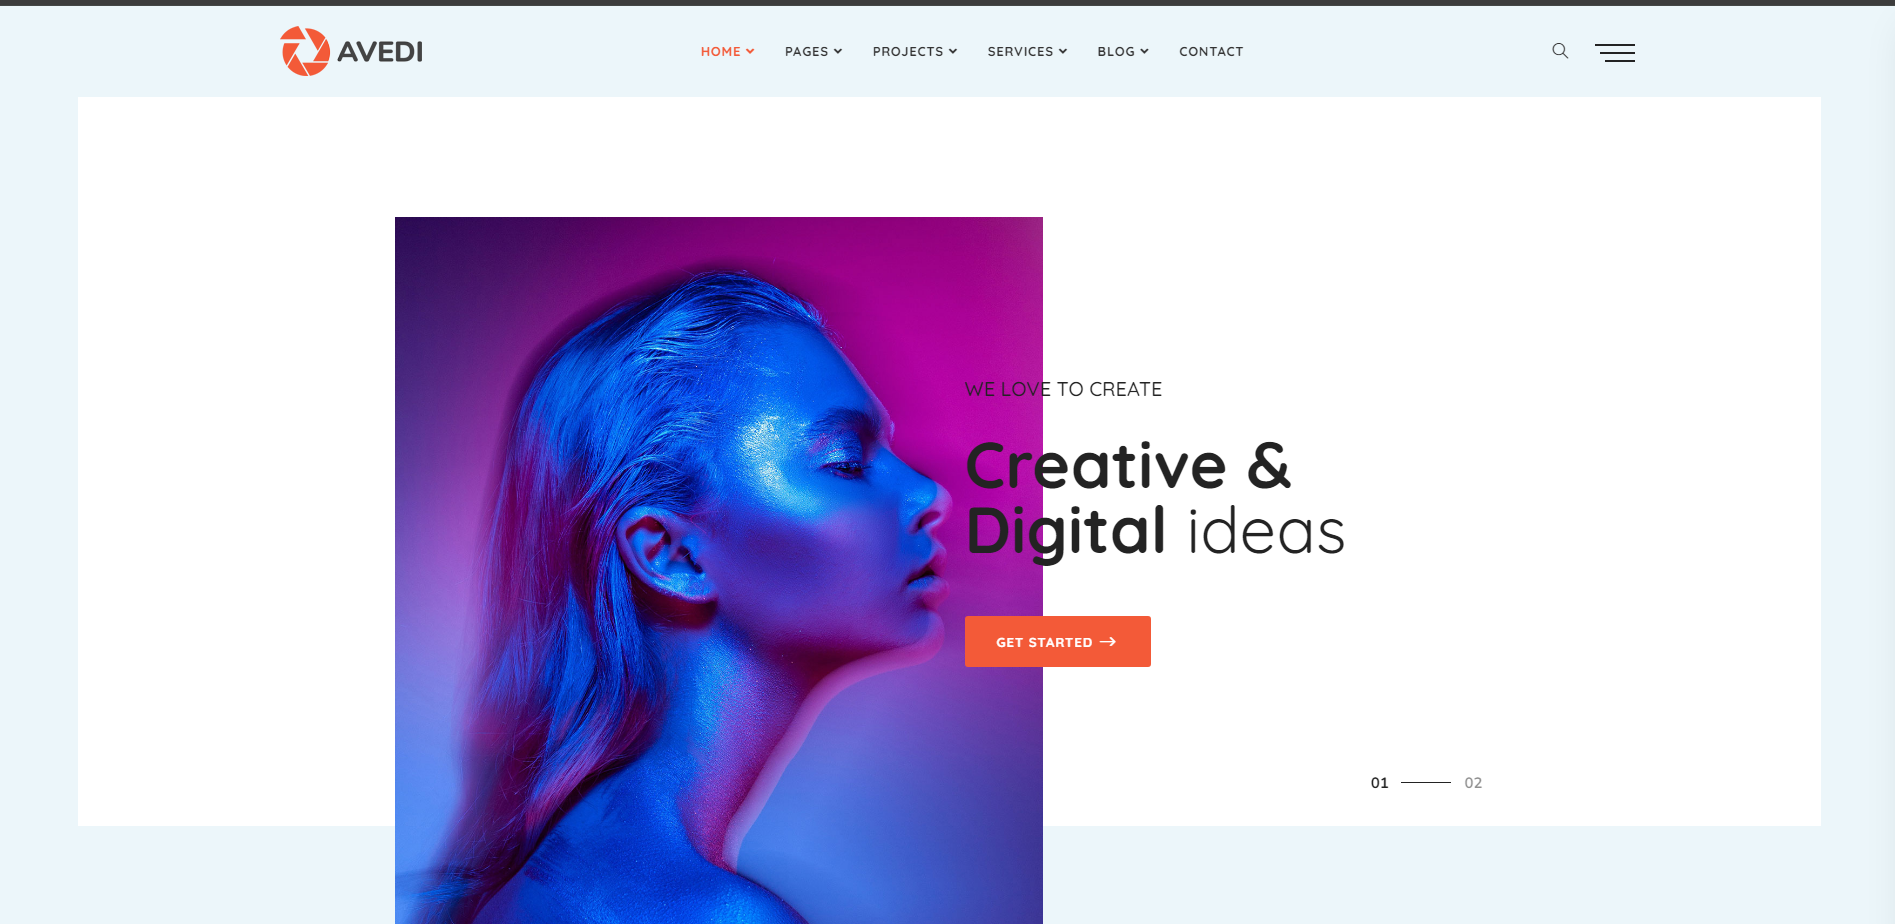menu: (8, 14, 1890, 157)
